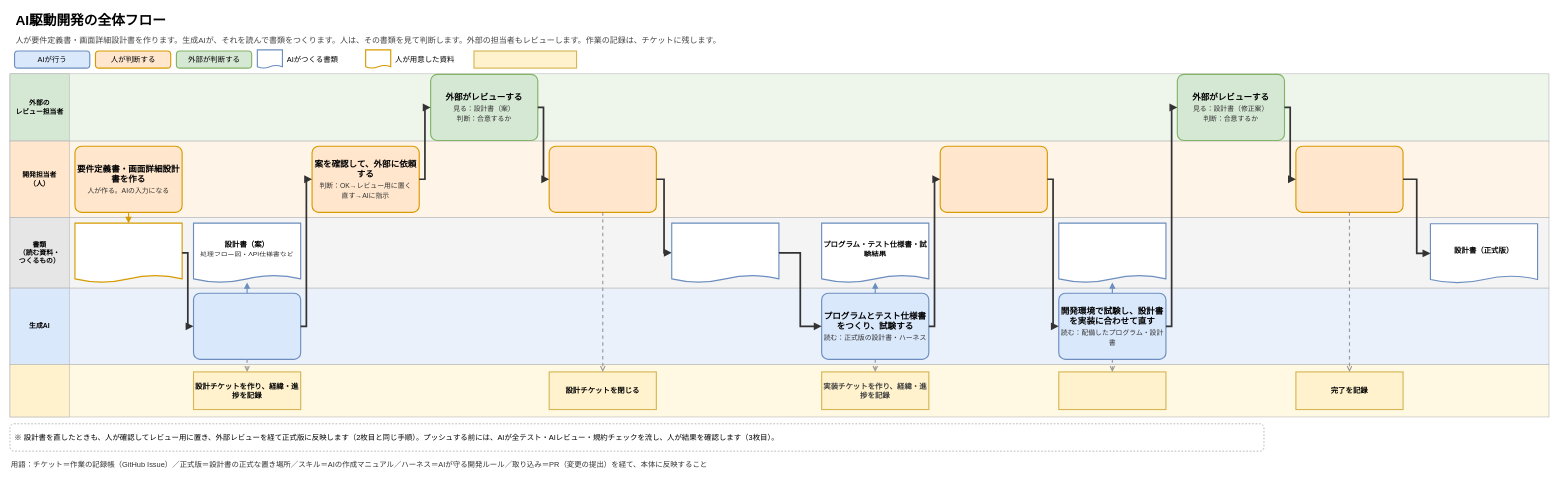
The diagram is 1559 pixels wide and 495 high, and some of its shapes have lost their labels. Here are the shapes that lost their labels. From the top down, the centre of each, then its label:
At point (525, 59): "作業の記録（チケット）".
At point (602, 179): "正式版に反映する AI支援：反映スクリプト提供 実行は人".
At point (993, 179): "結果を確認し、開発環境に配備する 判断：OK→配備 直す→AIに指示".
At point (1349, 179): "正式版に反映し、取り込む 見る：試験結果 判断：OK→取り込み、チケットを閉じる".
At point (128, 252): "要件定義書・画面詳細設計書 人が作った資料".
At point (725, 252): "設計書（正式版） 処理フロー図・API仕様書など".
At point (1112, 252): "試験結果 設計書（修正案）".
At point (247, 326): "設計書の案をつくる 読む：要件定義書・画面詳細設計書・WBS・スキル".
At point (39, 390): "作業の記録 （チケット）".
At point (1112, 390): "修正の経緯を記録".
